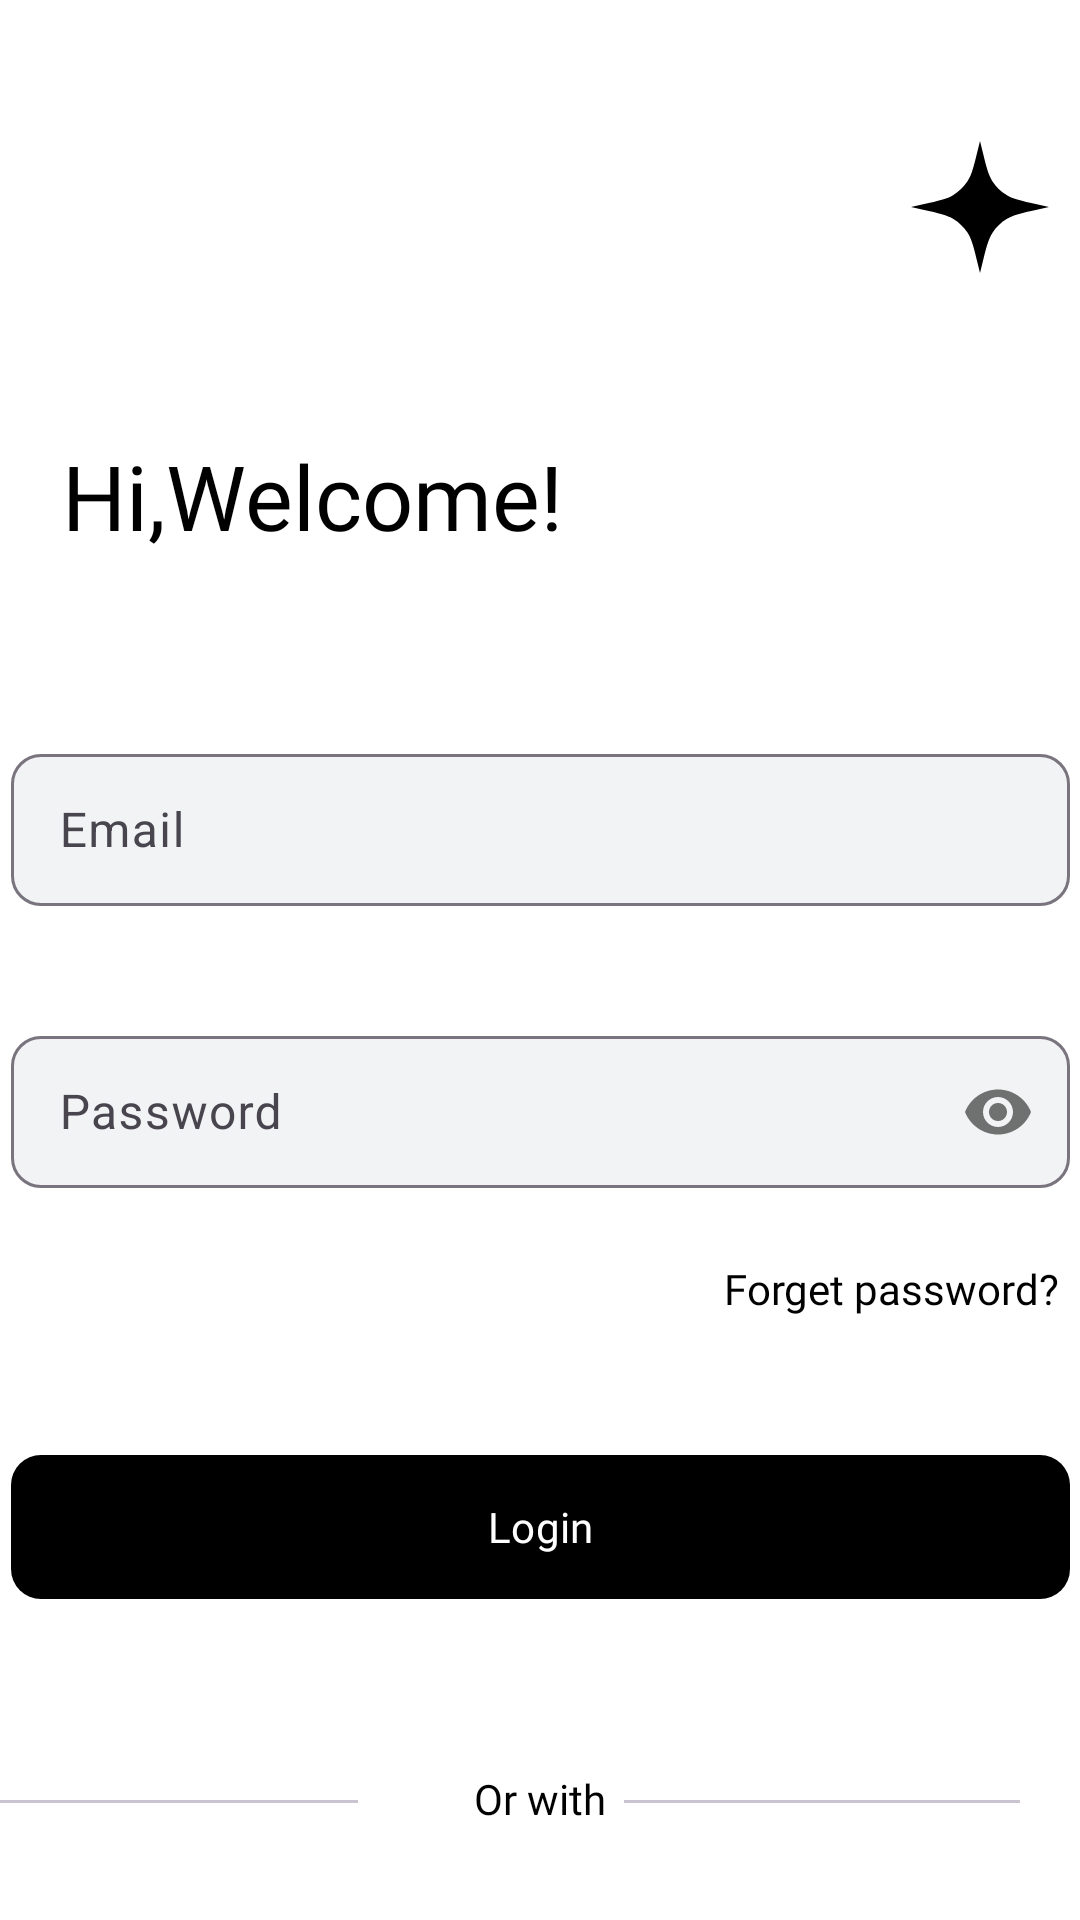

Named icons in this screenshot (1080px x 1920px) and their bounding boxes, (x1, y1, x2, y2):
star: (911, 141, 1049, 273)
